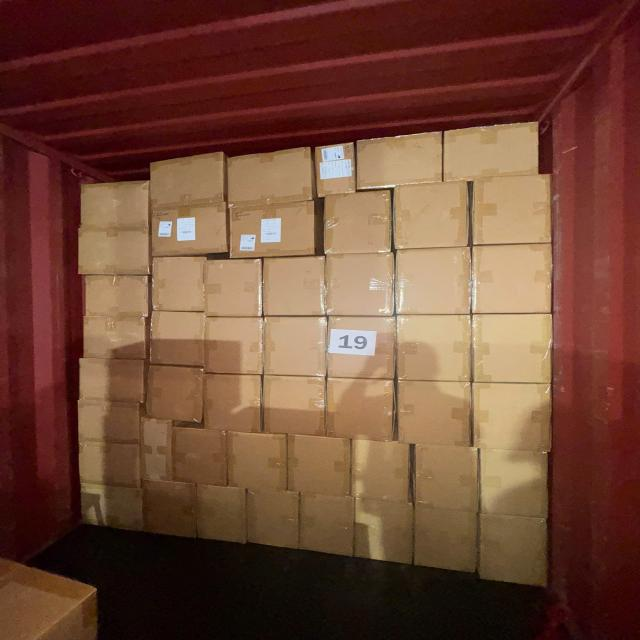Carton: (152, 154, 230, 262), (471, 173, 554, 245), (470, 246, 553, 318), (473, 314, 556, 386), (81, 276, 148, 363), (471, 381, 553, 452), (444, 124, 542, 180), (396, 316, 474, 386), (481, 515, 552, 591), (392, 183, 470, 252), (396, 247, 474, 316), (394, 381, 471, 449), (229, 202, 320, 259), (478, 448, 550, 517), (412, 505, 480, 576), (358, 133, 445, 188), (225, 153, 312, 207), (326, 318, 398, 383), (322, 190, 392, 256), (326, 253, 397, 318), (325, 378, 394, 444), (414, 446, 479, 515), (260, 376, 326, 439), (352, 499, 412, 568), (153, 205, 231, 258), (260, 256, 325, 319), (286, 432, 351, 494), (351, 437, 412, 502), (264, 317, 329, 378), (229, 433, 290, 495), (297, 492, 354, 558), (200, 375, 261, 436), (148, 365, 206, 428), (76, 226, 150, 275), (205, 316, 264, 377), (206, 257, 264, 318), (144, 479, 200, 541), (78, 182, 150, 230), (247, 492, 301, 554), (152, 313, 208, 372), (174, 428, 229, 488), (81, 482, 146, 532), (153, 255, 208, 313), (197, 484, 248, 546), (76, 356, 145, 399), (76, 440, 141, 485), (76, 400, 142, 443), (318, 140, 357, 197), (140, 416, 173, 483)
